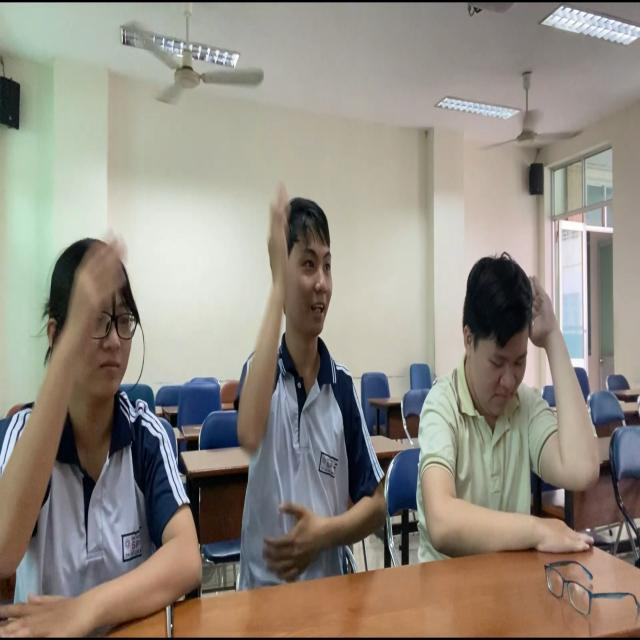raise_hand: (1, 146, 209, 640), (223, 189, 425, 576)
